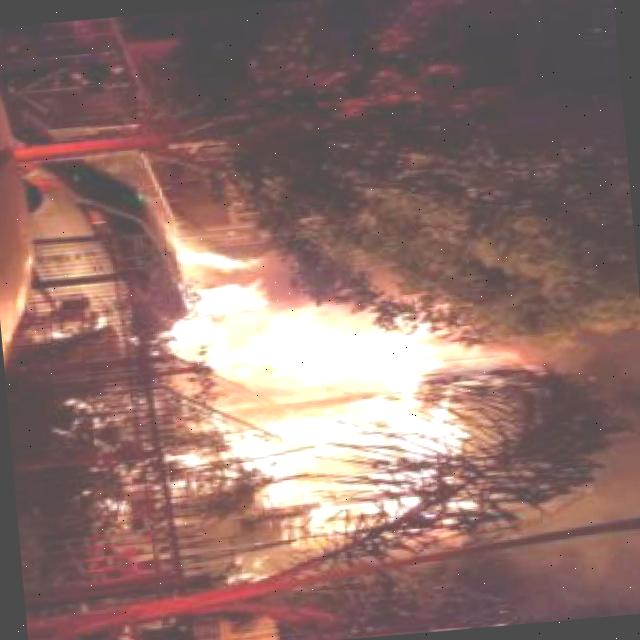fire: (155, 217, 529, 531)
